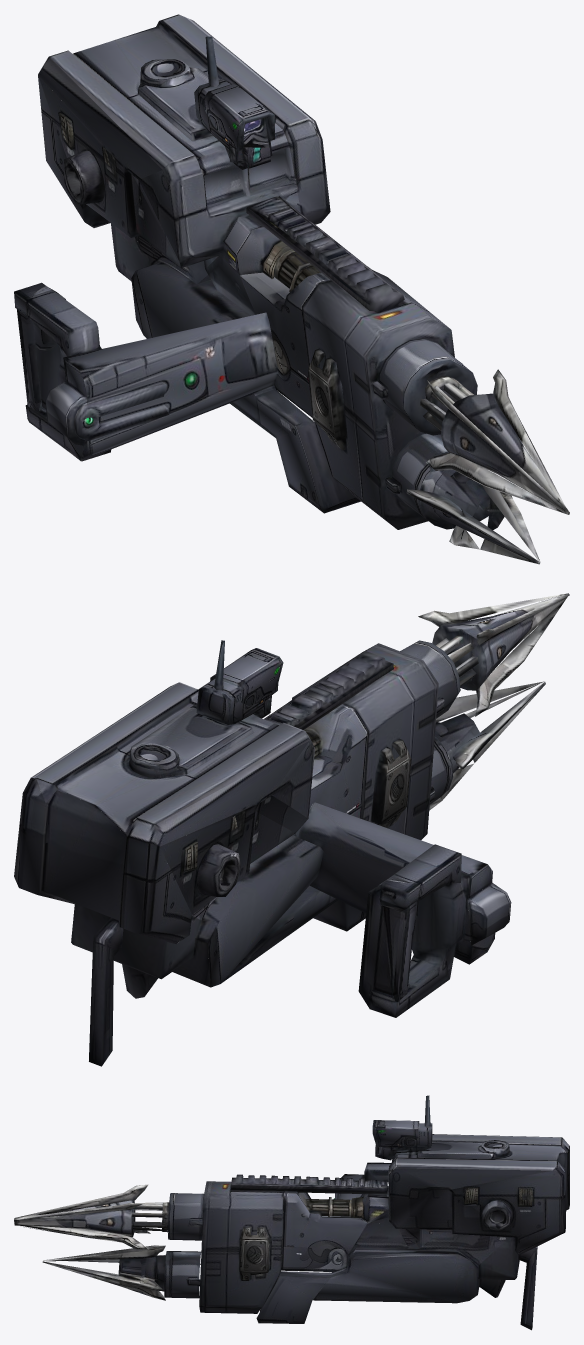
The picture shows the model from 3 angles, top to bottom: view 1: azimuth 30°, elevation 25°; view 2: azimuth 150°, elevation 25°; view 3: azimuth 270°, elevation 25°; orthographic projection. The views are drawn at different scales.
Parts seen in each view (by area): view 1: gun; view 2: gun; view 3: gun.
Part boxes in pixels (x1,y1,x2,y2): gun: (14,14,569,564); gun: (14,593,569,1066); gun: (14,1095,569,1330).
Size of the model in its own units: 2.53 by 2.77 by 6.3.
Materials: 1 (1 with a texture image).
